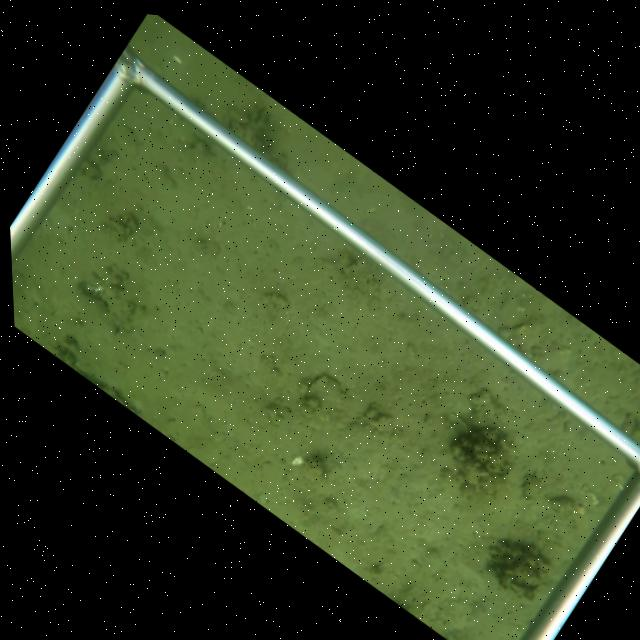Oyster-Indeterminate: (304, 373, 345, 417)
